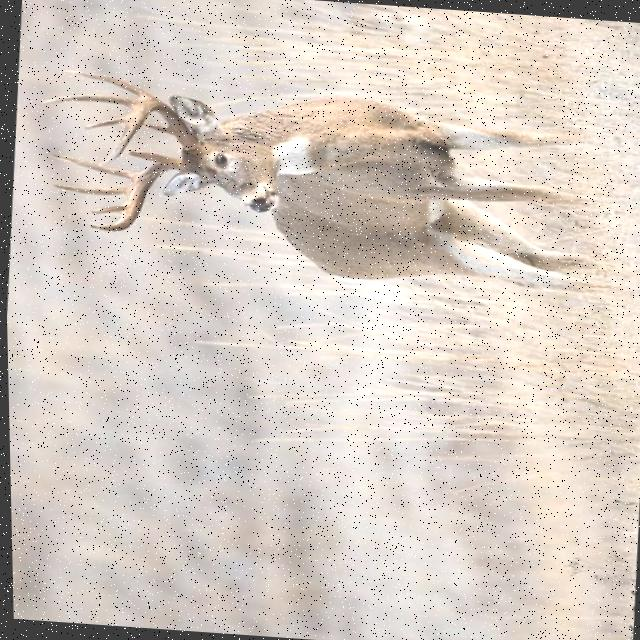L-F: (100, 95, 197, 162)
L-G1: (142, 122, 173, 134)
L-G2: (59, 69, 150, 96)
L-G3: (38, 93, 136, 108)
R-F: (87, 156, 181, 231)
R-G1: (127, 150, 166, 161)
R-G2: (46, 152, 137, 180)
R-G3: (50, 183, 128, 196)
R-G4: (88, 205, 124, 213)
